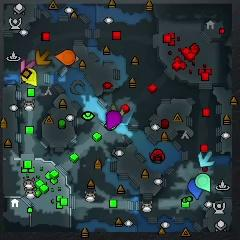p1: (188, 179, 203, 200)
p2: (196, 174, 211, 192)
p3: (107, 111, 122, 130)
p4: (22, 68, 37, 86)
p5: (56, 50, 76, 65)
x1: (21, 60, 35, 73)
x2: (110, 104, 124, 117)
x3: (198, 151, 214, 166)
x5: (35, 49, 51, 66)
